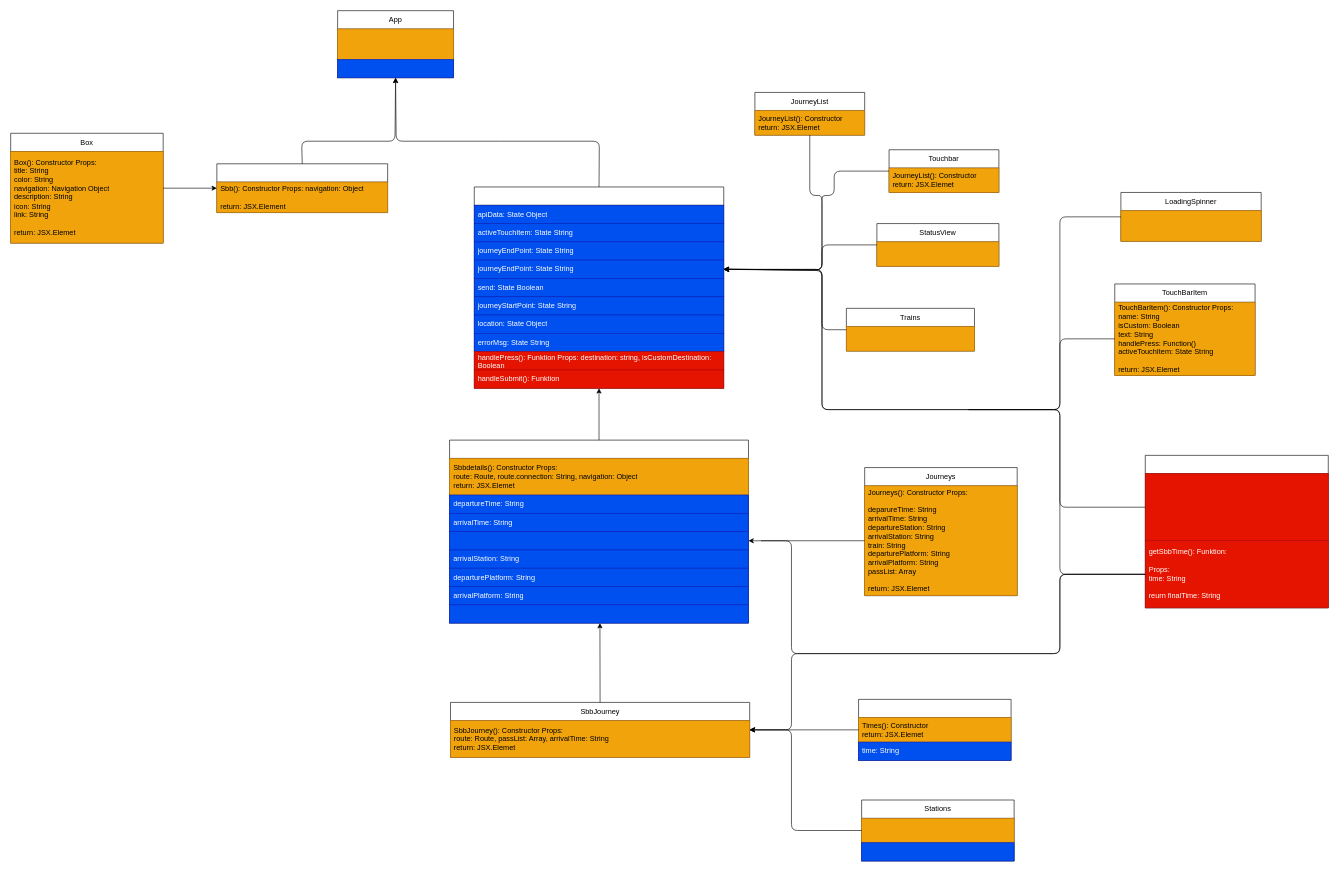
The diagram is 1339 pixels wide and 872 high, and some of its shapes have lost their labels. The box of each missing label's shape, as (x1, y1, x2, y2) in pixels:
App(): Constructor return: Navigation JSX.Element: (337, 28, 454, 59)
departureStation: String: (449, 531, 748, 550)
fontsLoaded: State Boolean: (337, 59, 454, 78)
getJourneyTime(): Funktion: Props: time: String reurn finalTime: String: (1145, 473, 1328, 541)
Helpers: (1145, 455, 1328, 608)
Home: (216, 163, 388, 213)
LoadingSpinner(): Constructor Props: loading: State Boolean return: JSX.Elemet: (1120, 210, 1261, 241)
Sbb: (474, 186, 724, 388)
SbbDtails: (449, 440, 748, 623)
station: String: (861, 842, 1014, 861)
Stations(): Constructor return: JSX.Elemet: (861, 818, 1014, 843)
StatusView(): Constructor return: JSX.Elemet: (876, 241, 999, 266)
Tmes: (858, 699, 1011, 760)
train: String: (449, 604, 748, 623)
Trains(): Constructor return: JSX.Elemet: (846, 326, 974, 351)
